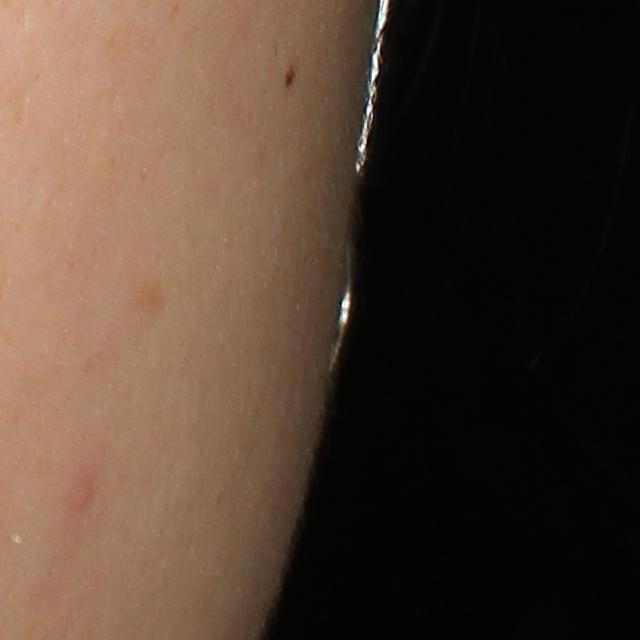nevus: (281, 63, 297, 91)
papule: (60, 463, 99, 517)
